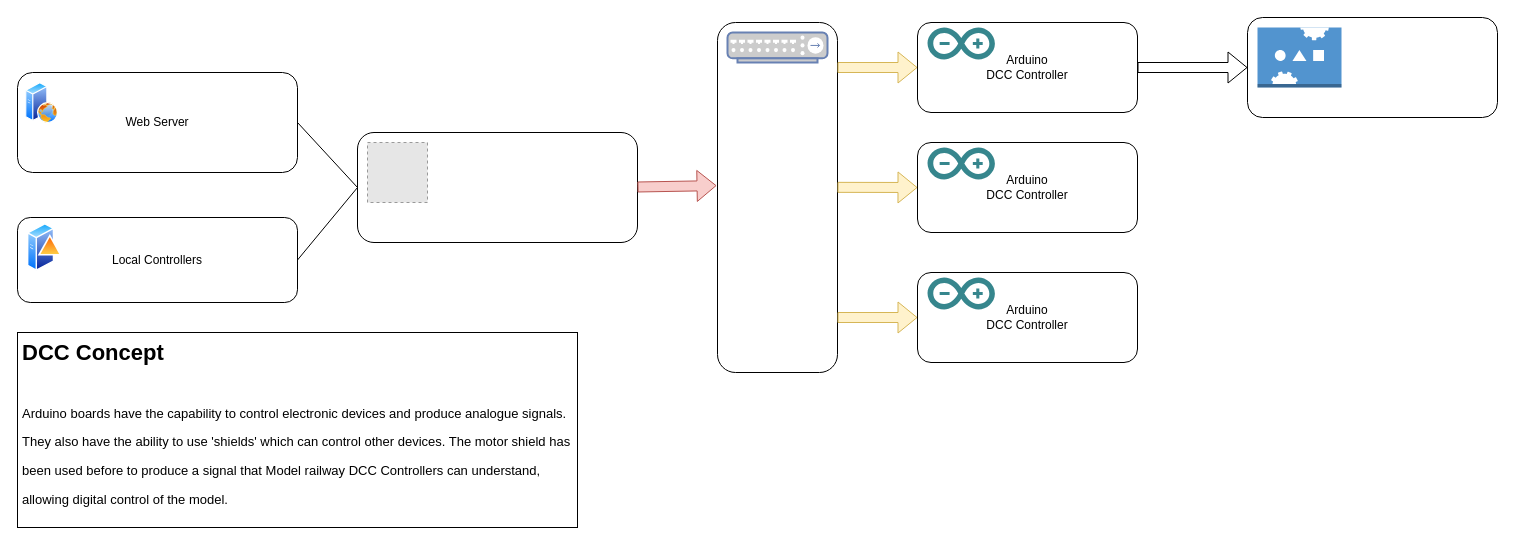
Some shapes in this 1515 by 545 pixel diagram are drawn without their labels. Grey dashed boxes stand in for pictures. Each missing label, with the box of its shape:
Motor Controller: (1246, 16, 1498, 118)
Raspberry PI Central API: (356, 132, 638, 242)
USB Hub: (716, 22, 838, 372)
